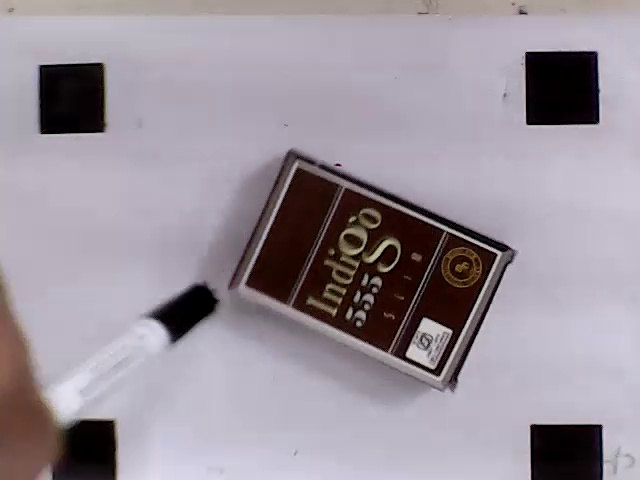BEX: (243, 162, 501, 381)
